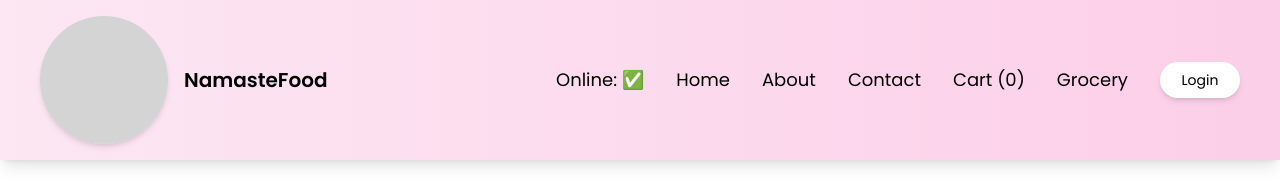
Test: Should change login button to logout on click in header component
The width and height of the screenshot is (1280, 186).
Click the button "Login" at (1200, 80), box [1160,62,1240,98]
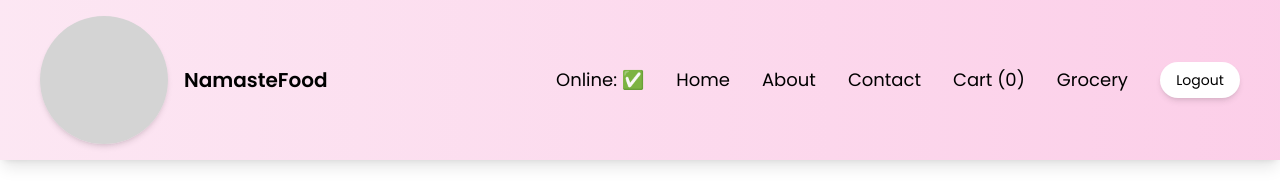
Check: the button "Logout" is shown, box [1160,62,1240,98]
